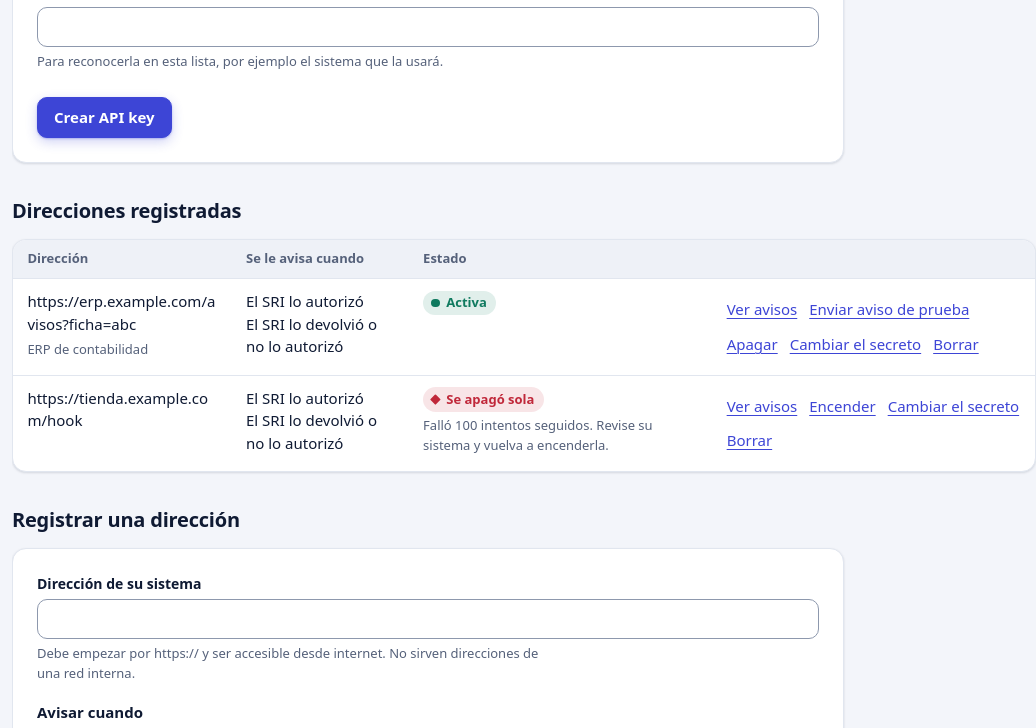
Test: Integraciones › changes the secret only after confirming, and shows the new one once
The image size is (1036, 728).
(page scrolled)
expect the table named "Direcciones registradas" is shown: met, box [13,240,1035,471]
Click the button named "Cambiar el secreto de https://erp.example.com/avisos?ficha=abc".
click(855, 344)  # box [790,333,921,355]
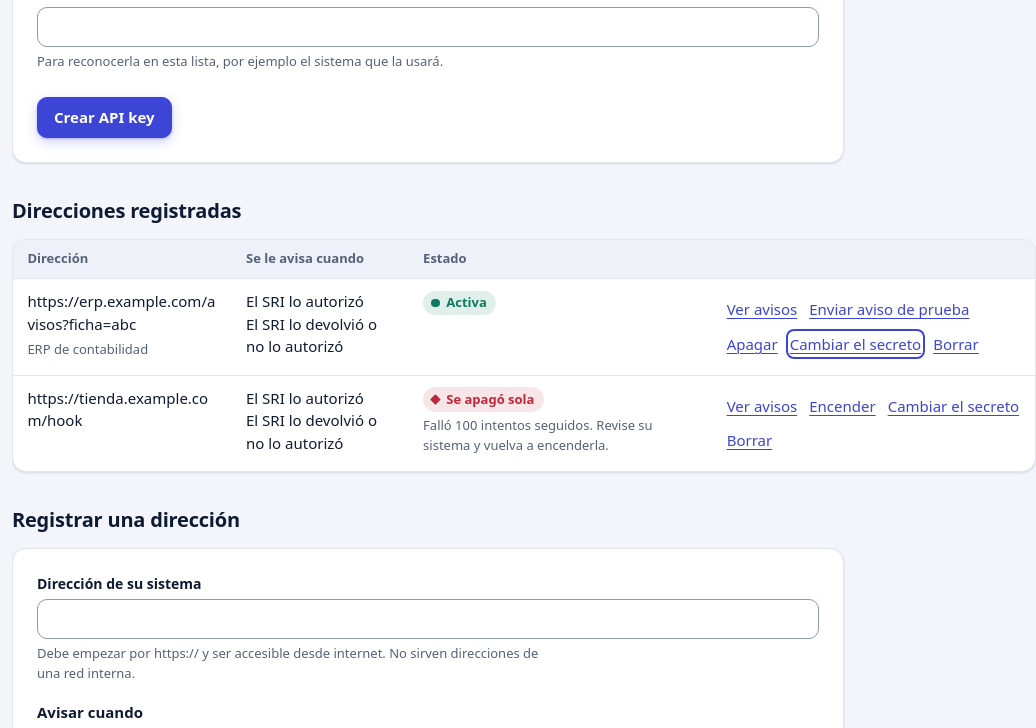
Click the button named "Cambiar el secreto de https://erp.example.com/avisos?ficha=abc".
click(855, 344)  # box [790,333,921,355]
(page scrolled)
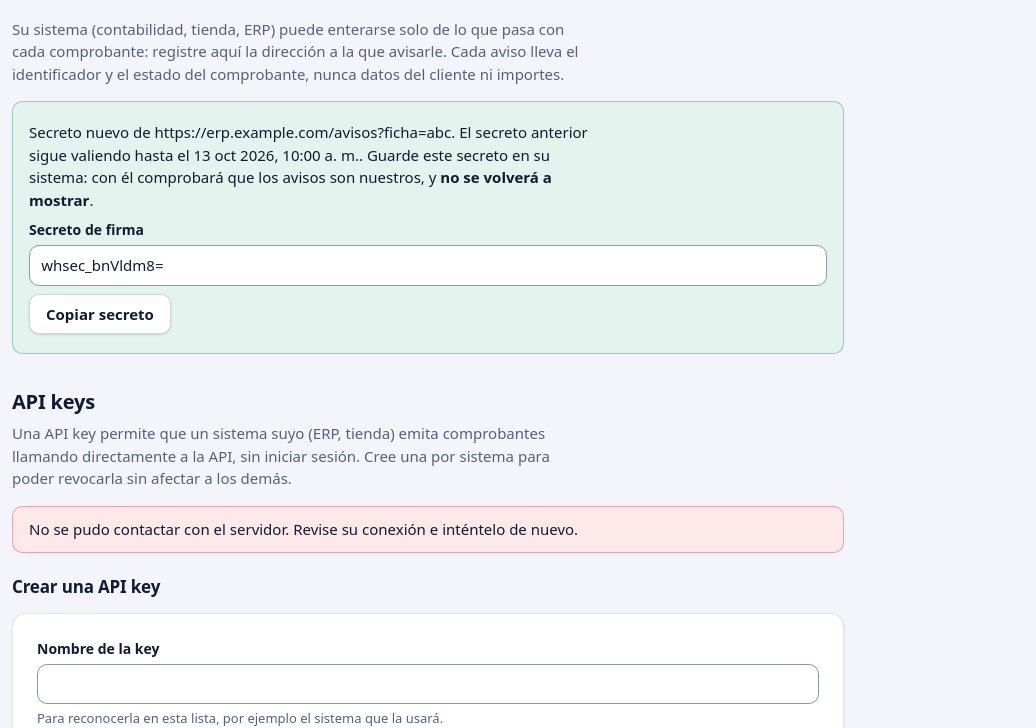
expect the field labelled "Secreto de firma" holds "whsec_bnVldm8=": met, box [29,245,827,286]
expect the text "El secreto anterior sigue valiendo hasta" is shown: met, box [29,122,588,165]
